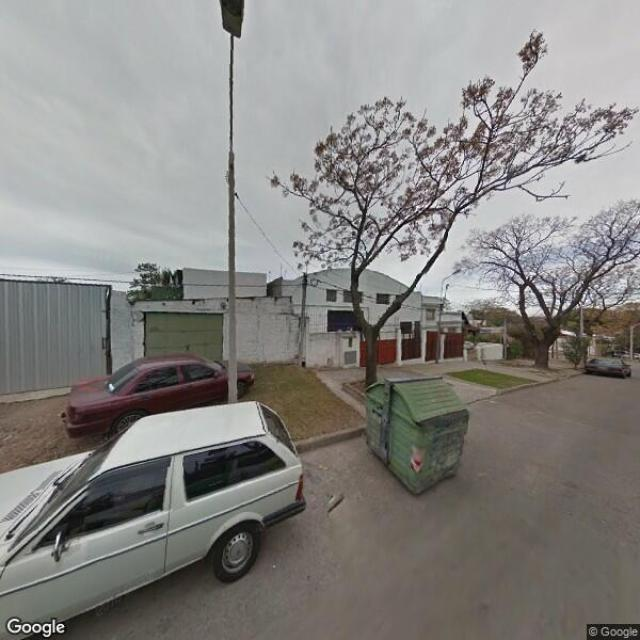garbage container: (353, 366, 479, 510)
